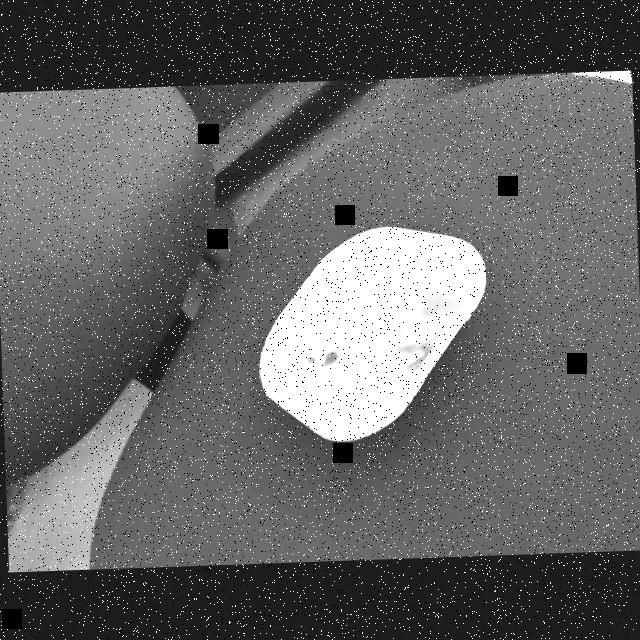cardboard_bowl: (240, 214, 506, 446)
